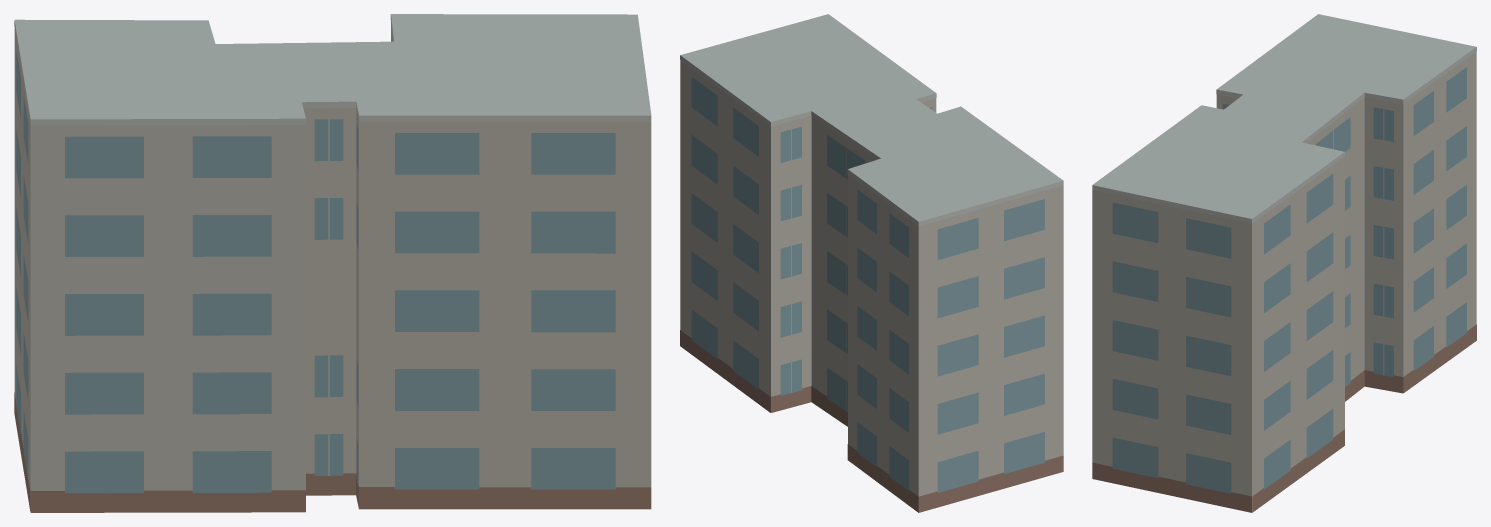
The model's file is survey-upis-32524779.glb.
The picture shows the model from 3 angles, left to right: view 1: azimuth 30°, elevation 25°; view 2: azimuth 150°, elevation 25°; view 3: azimuth 270°, elevation 25°; orthographic projection. The views are drawn at different scales.
Parts seen in each view (by area): view 1: survey-upis-32524779.tmp; view 2: survey-upis-32524779.tmp; view 3: survey-upis-32524779.tmp.
Part boxes in pixels (<box>): survey-upis-32524779.tmp: <box>14,14,651,512</box>; survey-upis-32524779.tmp: <box>680,14,1063,512</box>; survey-upis-32524779.tmp: <box>1092,14,1476,512</box>.
Bounding box in the file's own units: 22.84 × 15.25 × 18.1.
